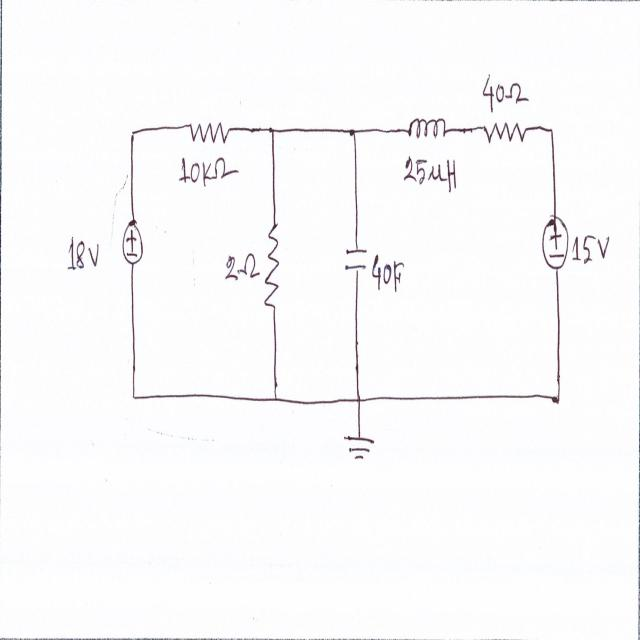capacitor: (344, 244, 369, 276)
ground: (340, 430, 379, 467)
inductor: (406, 112, 449, 149)
resistor: (188, 106, 232, 153), (263, 221, 283, 314), (482, 117, 527, 150)
voltage_source: (541, 211, 572, 269), (122, 218, 144, 269)
